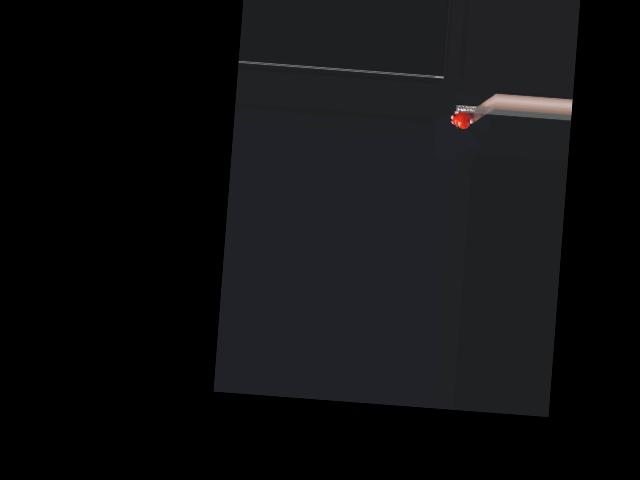tomato: (452, 111, 471, 129)
